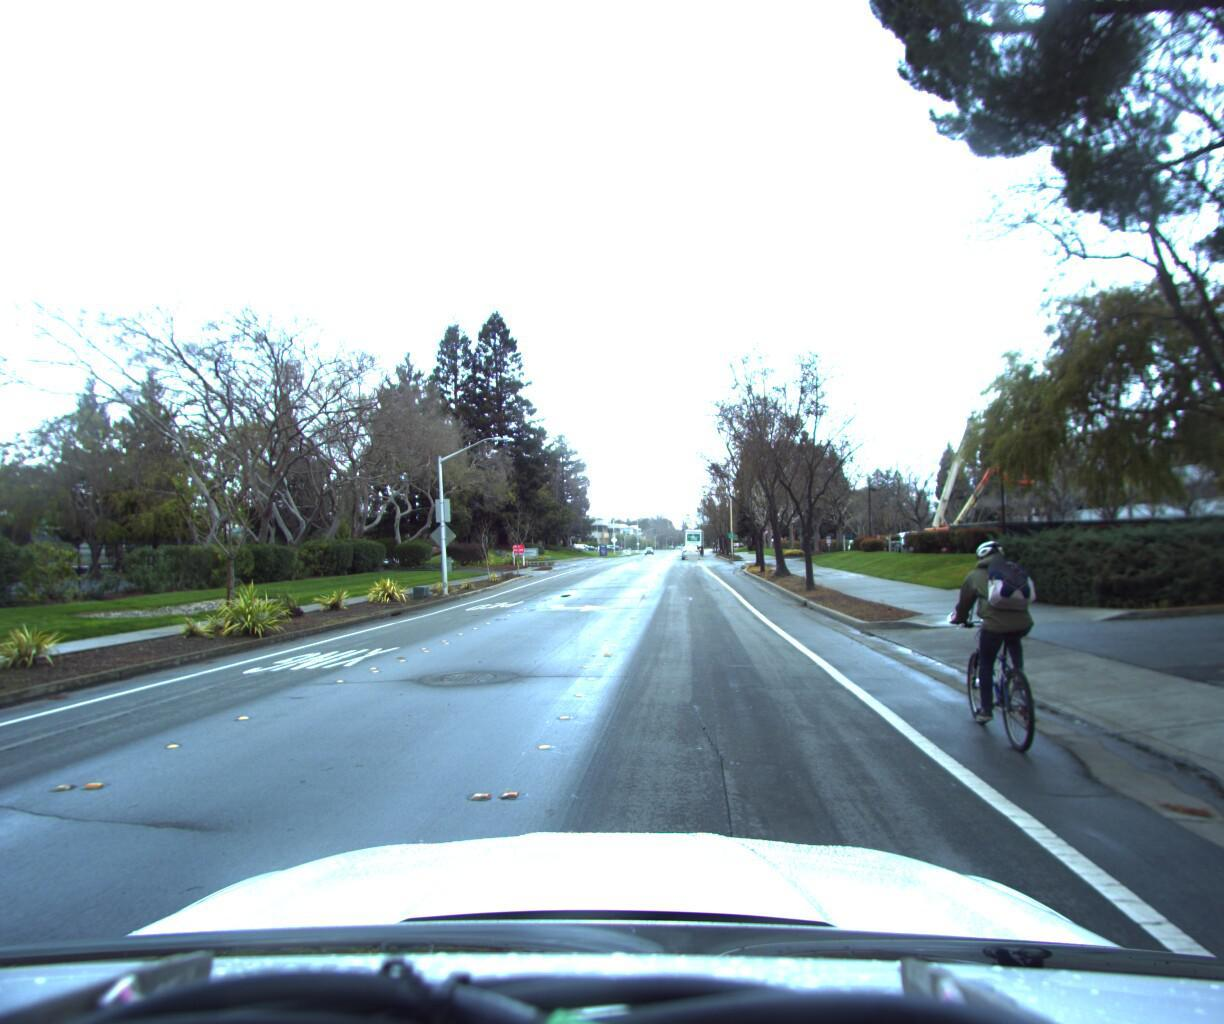bicycle: (924, 531, 1082, 752)
car: (682, 544, 700, 560)
